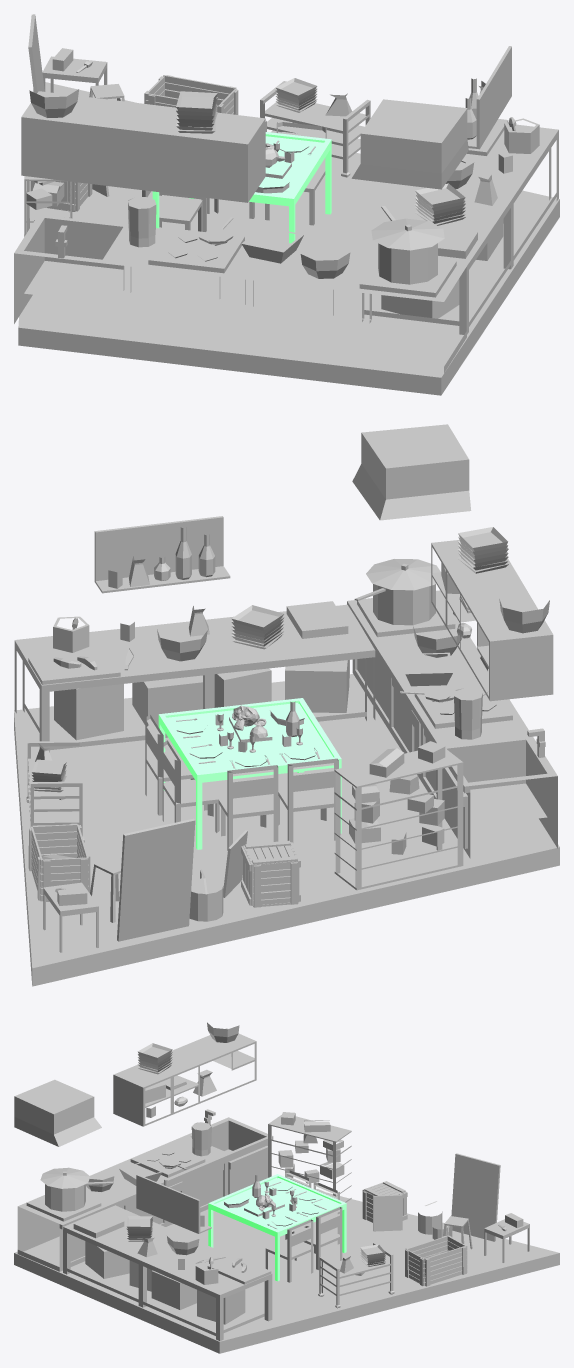
The model's file is peinture.glb.
3 renders of one model, top to bottom at view 1: azimuth 30°, elevation 25°; view 2: azimuth 150°, elevation 25°; view 3: azimuth 270°, elevation 25°, orthographic. The views are drawn at different scales.
Visible parts, largest first — view 1: base.001, Cube.021, Cube.001, Cube.002, Cube.020, Cube, Cylinder.016, Cube.019, Cube.053, Cube.022, Caisse en Vrac.002, Cube.056 (+19 smaller); view 2: base.001, Cube.001, Cube.002, Cube.021, Cube, Cube.020, Cube.060, Cube.022, Cube.058, Cylinder.016, Caisse en Vrac.002, Caisse en Vrac.001 (+27 smaller); view 3: base.001, Cube.001, Cube.002, Cube.021, Cube, Cube.020, Cube.060, Caisse en Vrac.002, Cube.022, Cube.019, Cylinder.016, Cube.058 (+18 smaller).
Part boxes in pixels (<box>): base.001: <box>18,82,559,395</box>; Cube.021: <box>21,91,265,202</box>; Cube.001: <box>14,214,468,372</box>; Cube.002: <box>362,124,558,334</box>; Cube.020: <box>351,99,468,189</box>; Cube: <box>152,132,331,243</box>; Cylinder.016: <box>371,206,444,284</box>; Cube.019: <box>260,81,370,177</box>; Cube.053: <box>148,228,244,273</box>; Cube.022: <box>467,46,511,149</box>; Caisse en Vrac.002: <box>144,75,238,114</box>; Cube.056: <box>176,91,217,133</box>; base.001: <box>14,674,559,986</box>; Cube.001: <box>347,590,557,858</box>; Cube.002: <box>14,604,375,752</box>; Cube.021: <box>431,540,553,701</box>; Cube: <box>158,698,341,849</box>; Cube.020: <box>352,424,471,520</box>; Cube.060: <box>117,818,195,941</box>; Cube.022: <box>94,516,230,593</box>; Cube.058: <box>334,748,463,890</box>; Cylinder.016: <box>354,559,440,625</box>; Caisse en Vrac.002: <box>28,823,90,901</box>; Caisse en Vrac.001: <box>241,840,300,907</box>; base.001: <box>14,1192,559,1353</box>; Cube.001: <box>17,1117,273,1271</box>; Cube.002: <box>63,1205,272,1340</box>; Cube.021: <box>113,1028,256,1126</box>; Cube: <box>208,1174,346,1281</box>; Cube.020: <box>14,1079,101,1146</box>; Cube.060: <box>451,1153,500,1241</box>; Caisse en Vrac.002: <box>405,1235,467,1286</box>; Cube.022: <box>136,1174,211,1233</box>; Cube.019: <box>318,1242,394,1308</box>; Cylinder.016: <box>40,1167,113,1211</box>; Cube.058: <box>268,1115,351,1202</box>.
Bounding box in the file's own units: 15.79 × 7.06 × 20.67.
